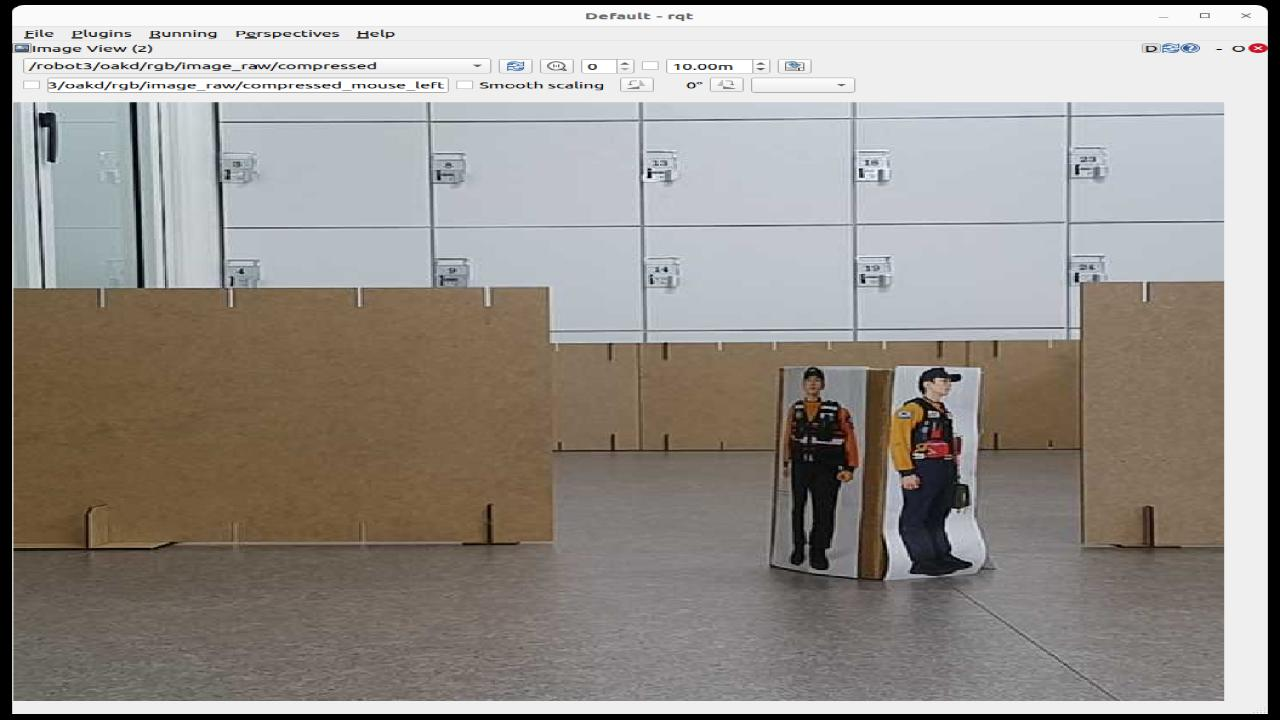Responder: (891, 368, 971, 574), (784, 369, 855, 567)
